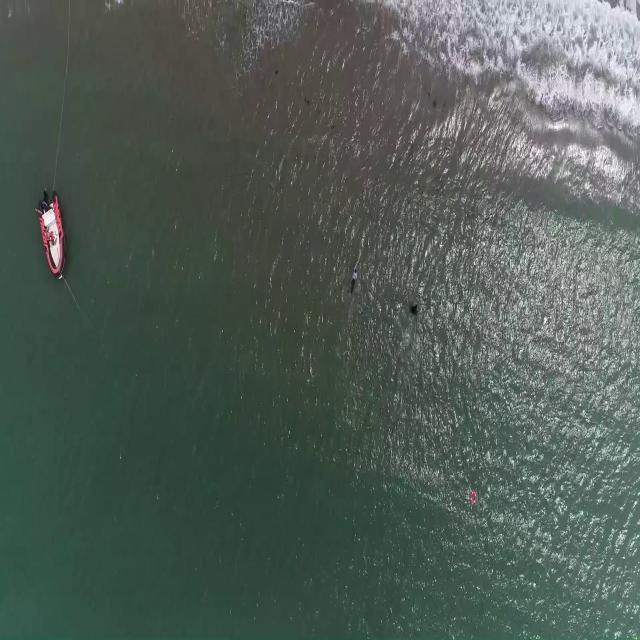boat: (36, 191, 66, 279)
life_buoy: (469, 490, 478, 504)
person: (349, 260, 362, 297), (410, 298, 420, 318)
